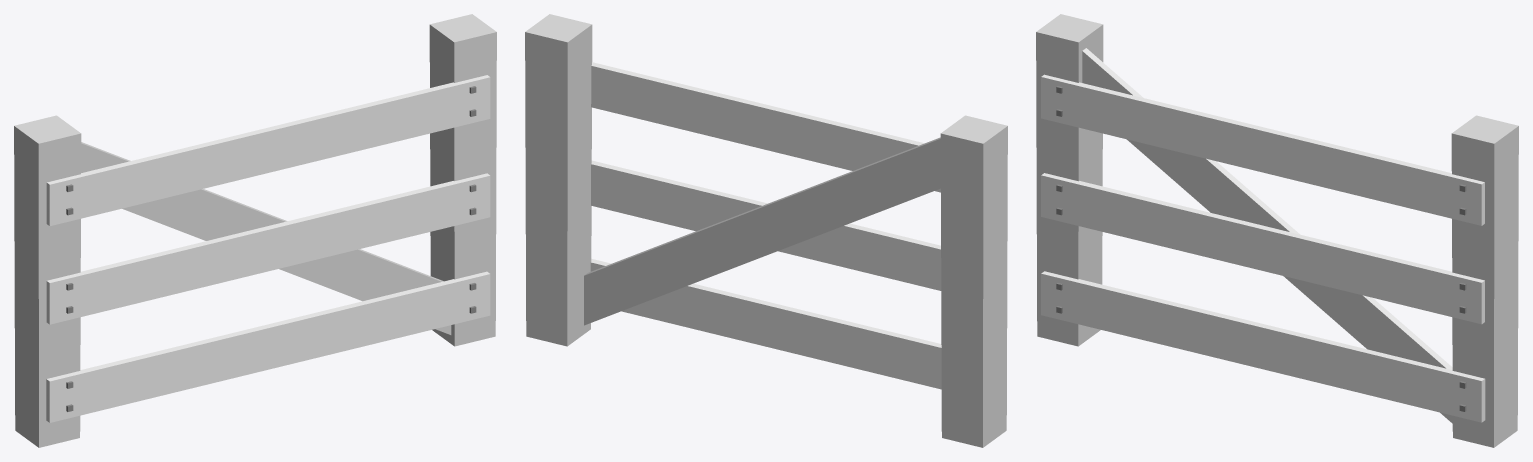
File: Mesh_Props_Arch_08.FBX
The picture shows the model from 3 angles, left to right: view 1: azimuth 30°, elevation 25°; view 2: azimuth 150°, elevation 25°; view 3: azimuth 330°, elevation 25°; orthographic projection.
Visible parts, largest first — view 1: Mesh_Props_Arch_08; view 2: Mesh_Props_Arch_08; view 3: Mesh_Props_Arch_08.
Boxes of the visible parts, bbox=[...] form: Mesh_Props_Arch_08: bbox=[14, 14, 496, 447]; Mesh_Props_Arch_08: bbox=[525, 14, 1007, 447]; Mesh_Props_Arch_08: bbox=[1036, 14, 1518, 447].
Size of what is drawn, in the model's own units: 173 by 19.03 by 110.
